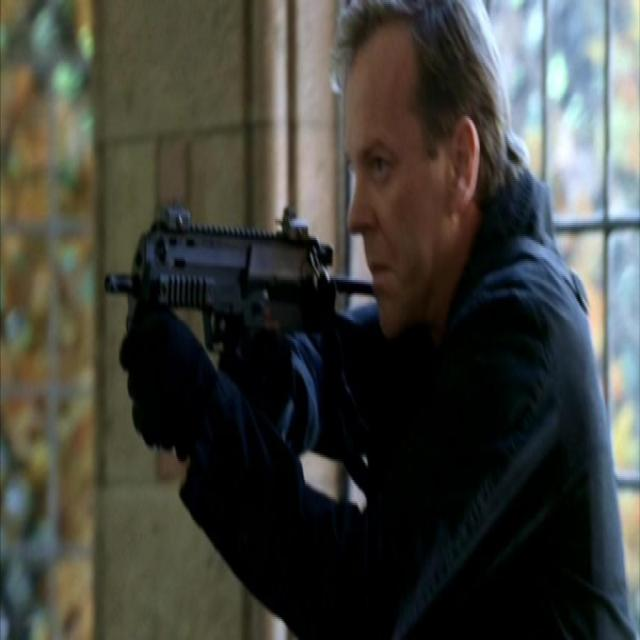rifle: (102, 191, 378, 375)
